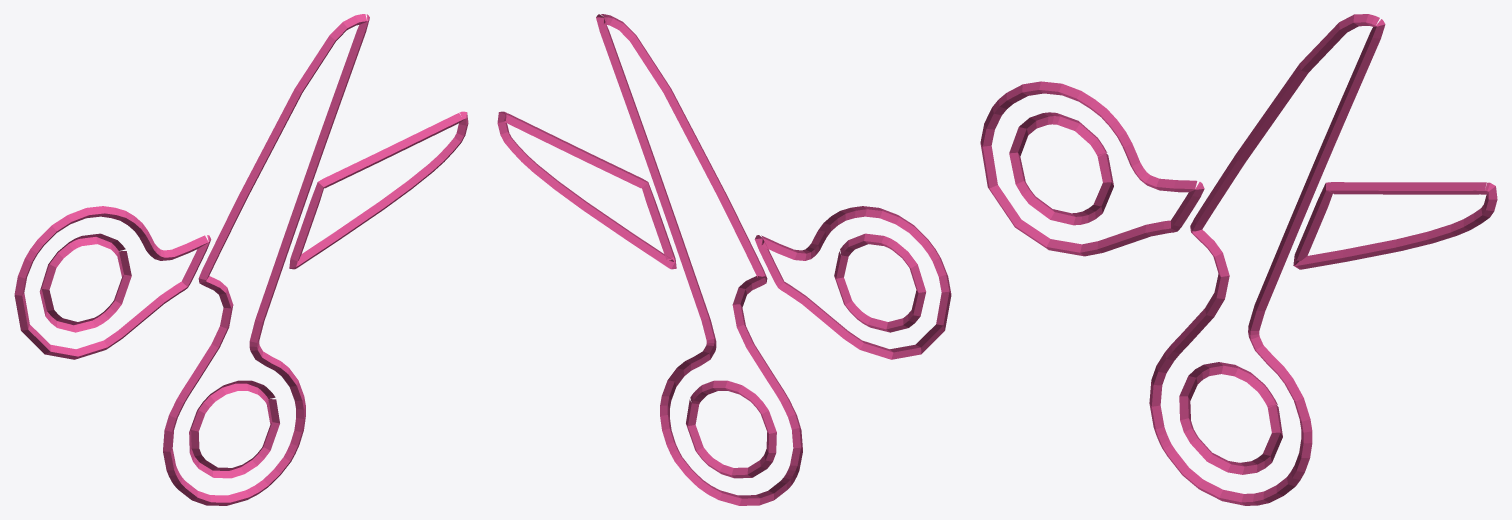
The model's file is scissor-neon-sign.fbx.
3 renders of one model, left to right at view 1: azimuth 30°, elevation 25°; view 2: azimuth 150°, elevation 25°; view 3: azimuth 330°, elevation 25°, orthographic. The views are drawn at different scales.
Parts seen in each view (by area): view 1: scissors; view 2: scissors; view 3: scissors.
Part boxes in pixels (x1,y1,x2,y2): scissors: [14, 14, 468, 505]; scissors: [497, 14, 951, 505]; scissors: [980, 14, 1497, 505].
Bounding box in the file's own units: 219 × 211 × 4.76.
